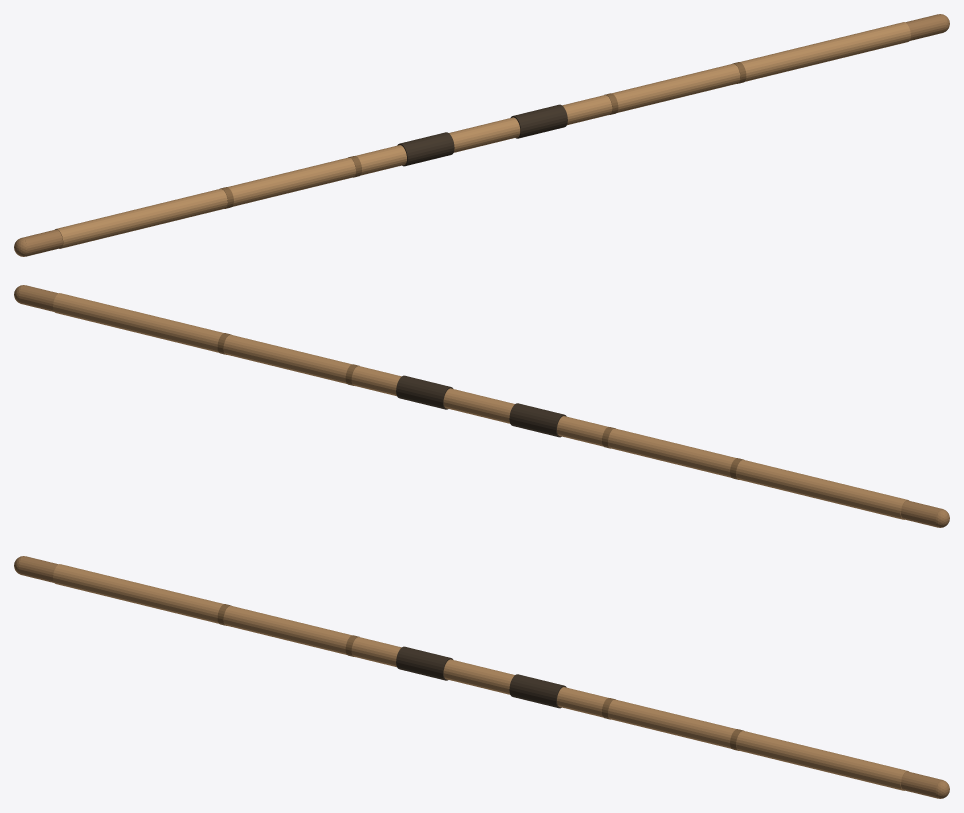
File: stick_original_visuals.glb
The picture shows the model from 3 angles, top to bottom: view 1: azimuth 30°, elevation 25°; view 2: azimuth 150°, elevation 25°; view 3: azimuth 330°, elevation 25°; orthographic projection.
Parts seen in each view (by area): view 1: world; view 2: world; view 3: world.
Part boxes in pixels (x1,y1,x2,y2): world: (14,14,949,256); world: (14,285,949,527); world: (14,556,949,798).
Size of the model in its own units: 1.89 by 0.041 by 0.041.
